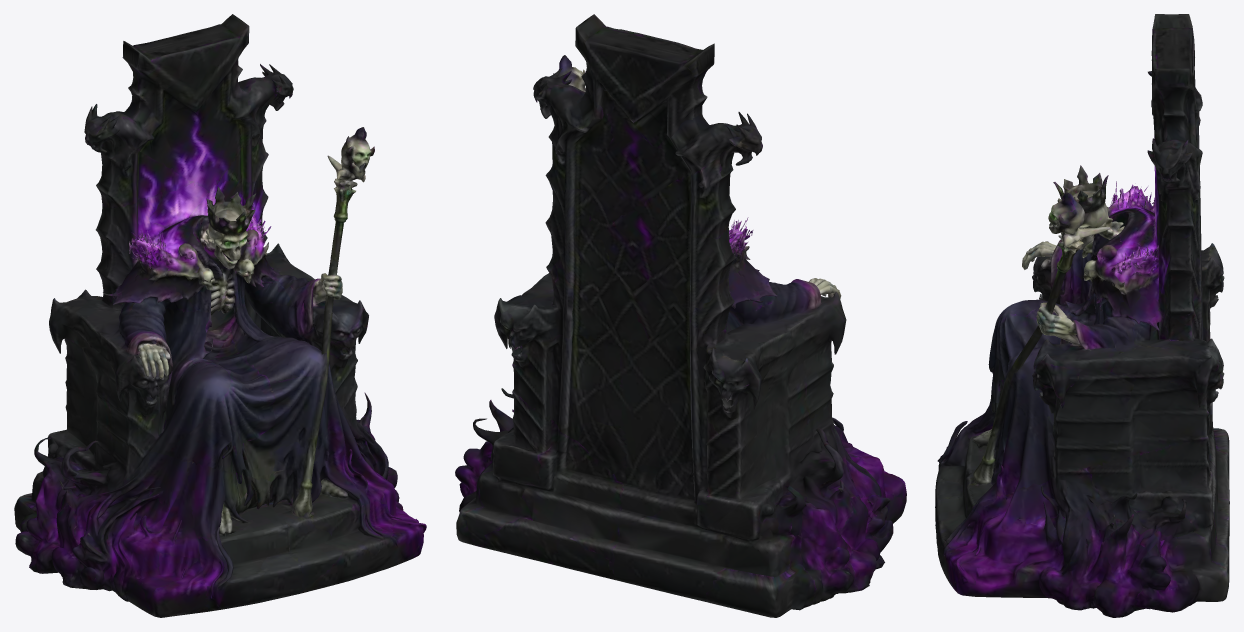
The model's file is mini_gm18.glb.
3 views of the same model, side by side, from view 1: azimuth 30°, elevation 25°; view 2: azimuth 150°, elevation 25°; view 3: azimuth 270°, elevation 25° (orthographic). The views are drawn at different scales.
Bounding box in the file's own units: 1.48 × 1.9 × 1.04.
Materials: 1 (1 with a texture image).
